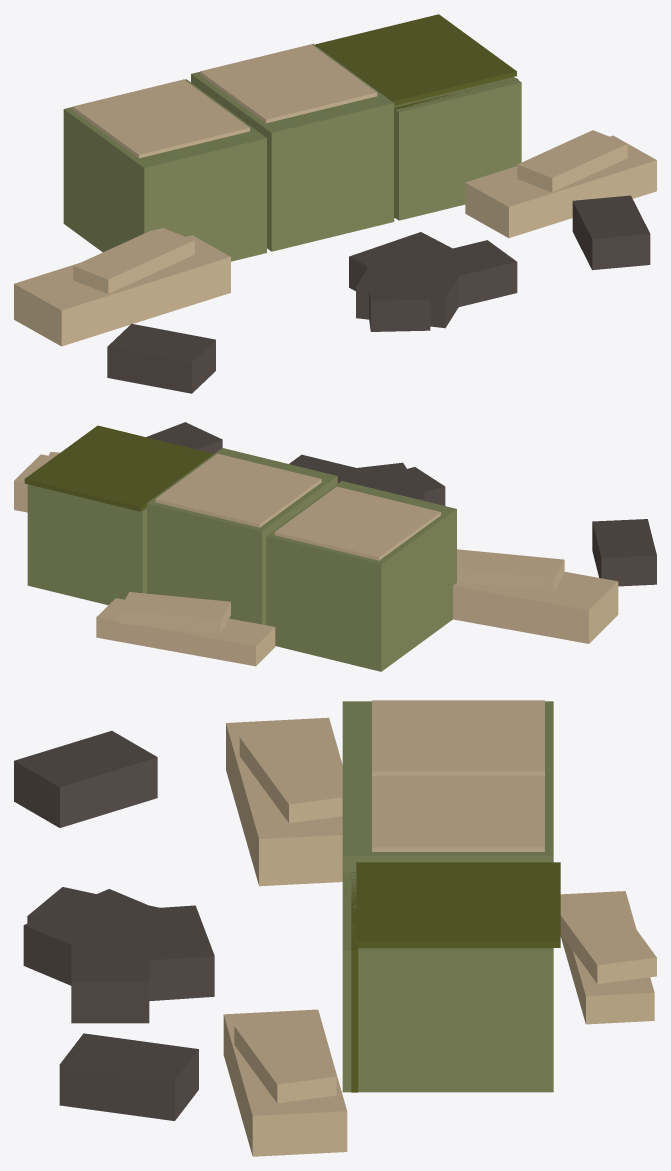
Rendered from SM_HescoCorto3_v4_Red_e2_MuyDanado_LOD1.fbx.
The picture shows the model from 3 angles, top to bottom: view 1: azimuth 30°, elevation 25°; view 2: azimuth 150°, elevation 25°; view 3: azimuth 270°, elevation 25°; orthographic projection. The views are drawn at different scales.
Parts seen in each view (by area): view 1: SM_hesco_piezas_v98_LOD1; view 2: SM_hesco_piezas_v98_LOD1; view 3: SM_hesco_piezas_v98_LOD1.
Part boxes in pixels (x1,y1,x2,y2): SM_hesco_piezas_v98_LOD1: [14, 14, 656, 393]; SM_hesco_piezas_v98_LOD1: [14, 422, 656, 671]; SM_hesco_piezas_v98_LOD1: [14, 700, 656, 1156].
Bounding box in the file's own units: 5.36 × 1.02 × 3.71.
